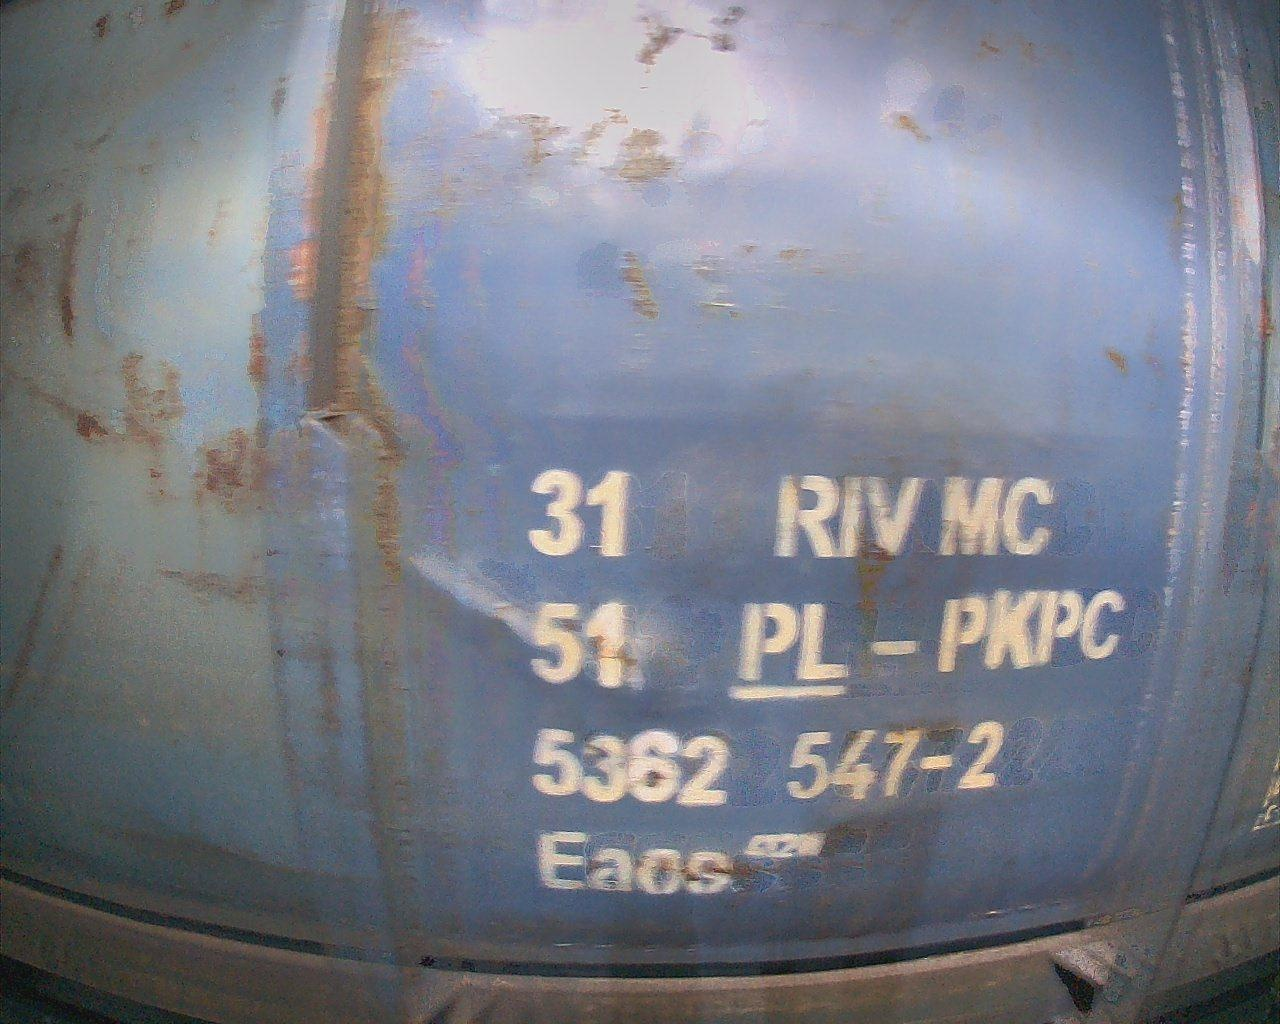UIC: (521, 455, 1131, 905)
